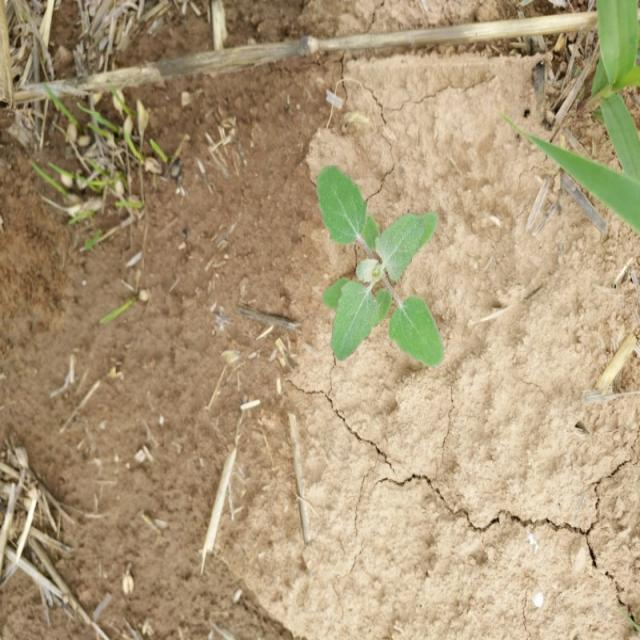ca: (316, 166, 444, 368)
